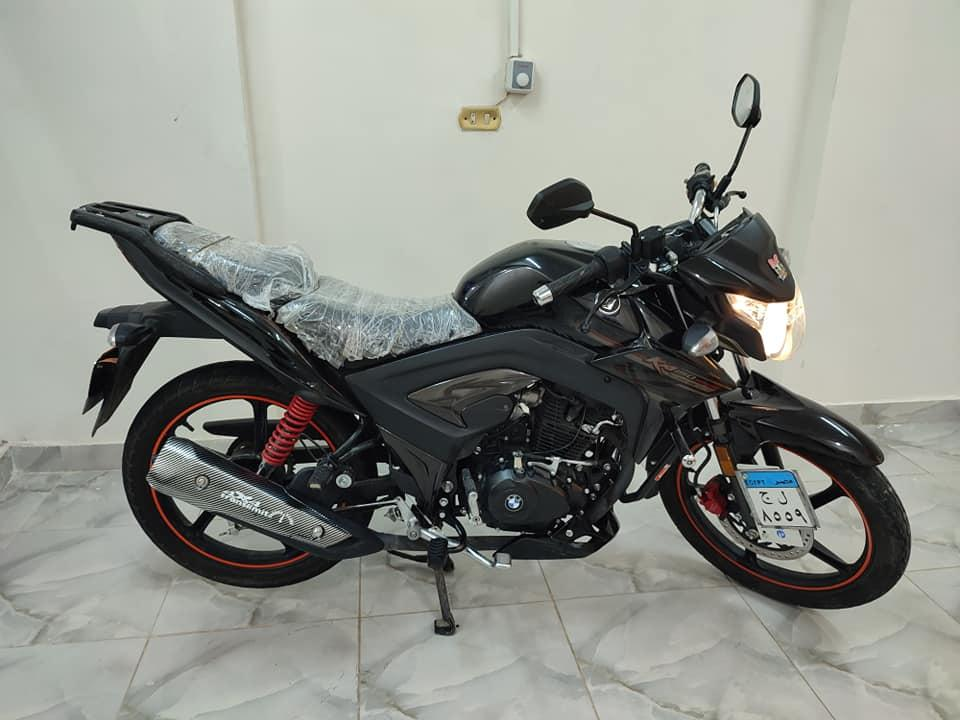License Plate: (738, 471, 816, 532)
